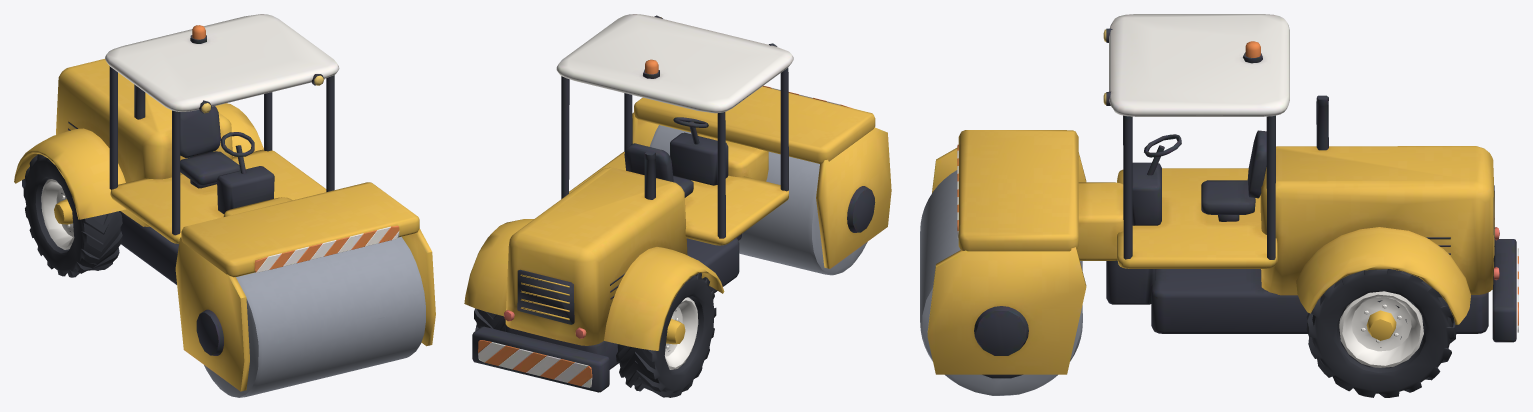
File: n_roller.glb
3 renders of one model, left to right at view 1: azimuth 30°, elevation 25°; view 2: azimuth 150°, elevation 25°; view 3: azimuth 270°, elevation 25°, orthographic. The views are drawn at different scales.
Visible parts, largest first — view 1: road-roller_body, road-roller_drum, road-roller_wheel_rr; view 2: road-roller_body, road-roller_drum, road-roller_wheel_rr, road-roller_wheel_rl; view 3: road-roller_body, road-roller_wheel_rl, road-roller_drum.
Boxes of the visible parts, x1,y1,x2,y2 form: road-roller_body: [14, 14, 435, 391]; road-roller_drum: [204, 236, 425, 397]; road-roller_wheel_rr: [23, 154, 122, 277]; road-roller_body: [464, 14, 891, 392]; road-roller_drum: [649, 125, 867, 275]; road-roller_wheel_rr: [616, 273, 716, 397]; road-roller_wheel_rl: [474, 308, 505, 331]; road-roller_body: [927, 14, 1518, 374]; road-roller_wheel_rl: [1306, 269, 1456, 397]; road-roller_drum: [920, 170, 1082, 395].
Bounding box in the file's own units: 2.58 × 3.17 × 5.59.
Materials: 3 (2 with a texture image).
